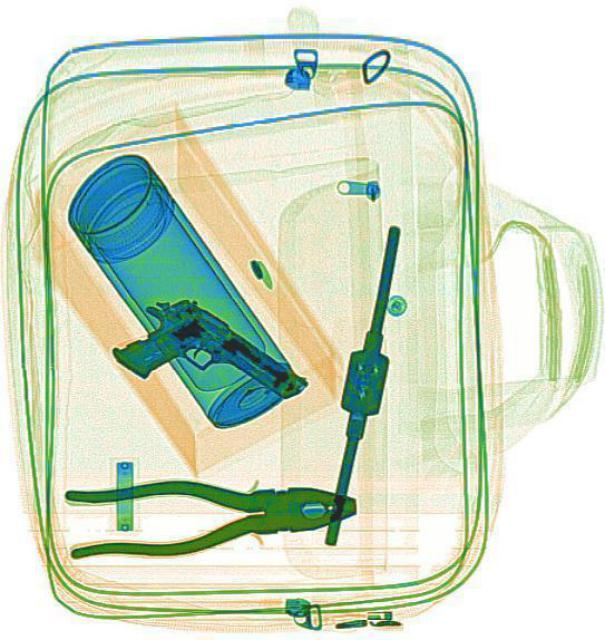Gun: (103, 276, 310, 458)
Pliers: (62, 466, 357, 562)
